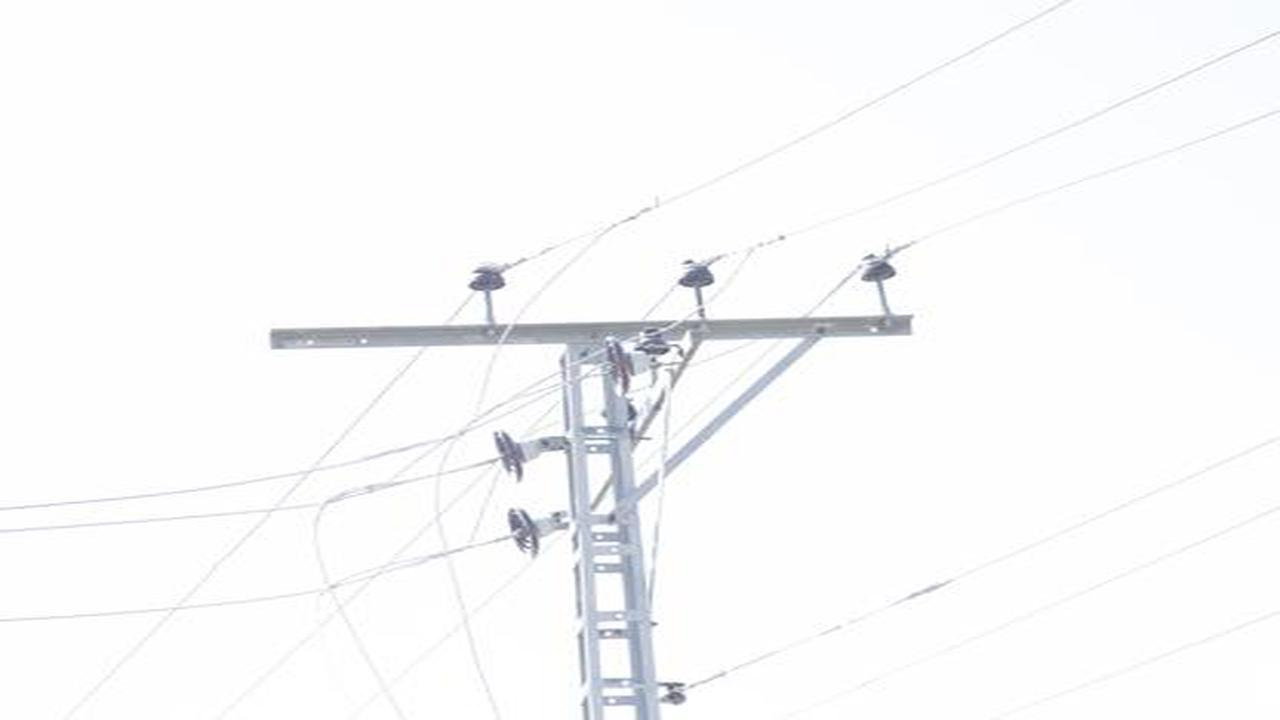insulator_disc: (491, 423, 543, 482), (505, 504, 558, 559), (599, 334, 637, 395)
insulator_pin: (676, 253, 720, 295), (858, 249, 901, 286), (466, 262, 509, 298), (637, 325, 675, 359)
